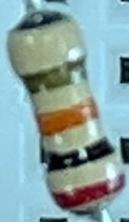Black: (46, 138, 117, 176)
Orange: (39, 96, 100, 139)
Red: (49, 171, 125, 210)
Side-Gold: (16, 53, 87, 98)
